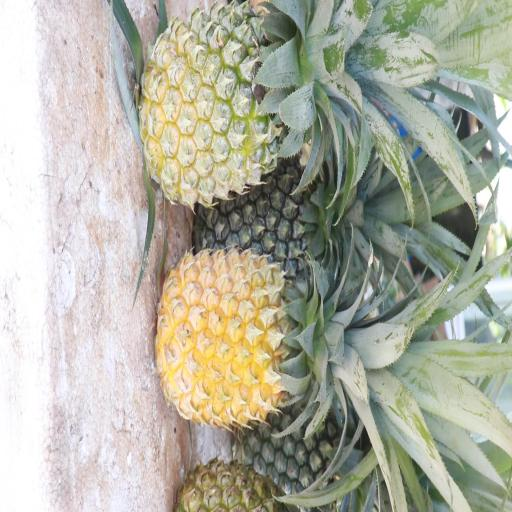------------------------------: (148, 0, 330, 204)
Pineapple - v8 v1: (160, 252, 334, 432)
